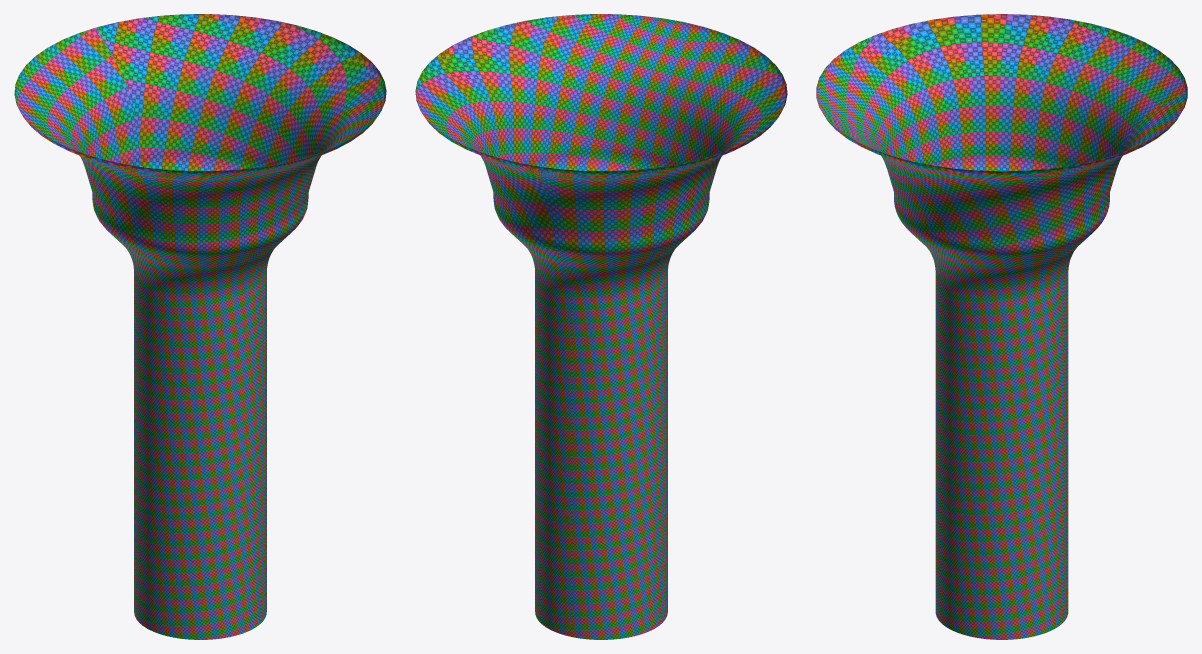
File: Pillar.fbx
3 views of the same model, side by side, from view 1: azimuth 30°, elevation 25°; view 2: azimuth 150°, elevation 25°; view 3: azimuth 270°, elevation 25° (orthographic).
Visible parts, largest first — view 1: polySurface8110; view 2: polySurface8110; view 3: polySurface8110.
Part boxes in pixels (left/top/right/bottom): polySurface8110: left=14, top=14, right=386, bottom=639; polySurface8110: left=415, top=14, right=787, bottom=639; polySurface8110: left=816, top=14, right=1187, bottom=639.
Size of the model in its own units: 2082 by 3206 by 2078.
